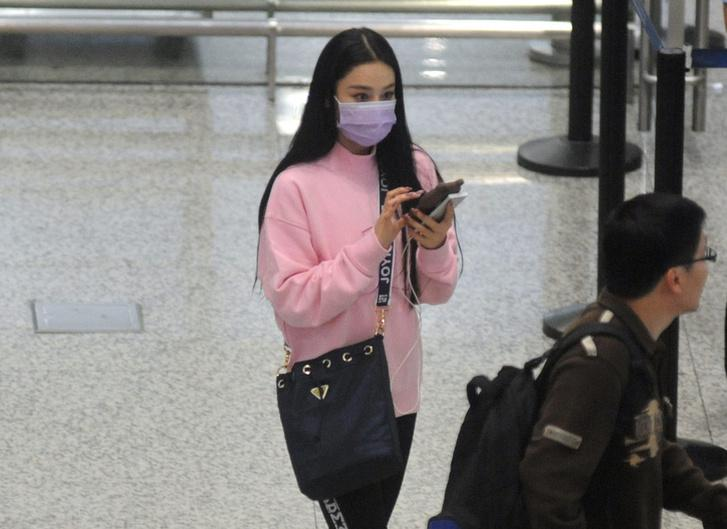NONE: (660, 244, 717, 316)
OK: (333, 74, 404, 145)
